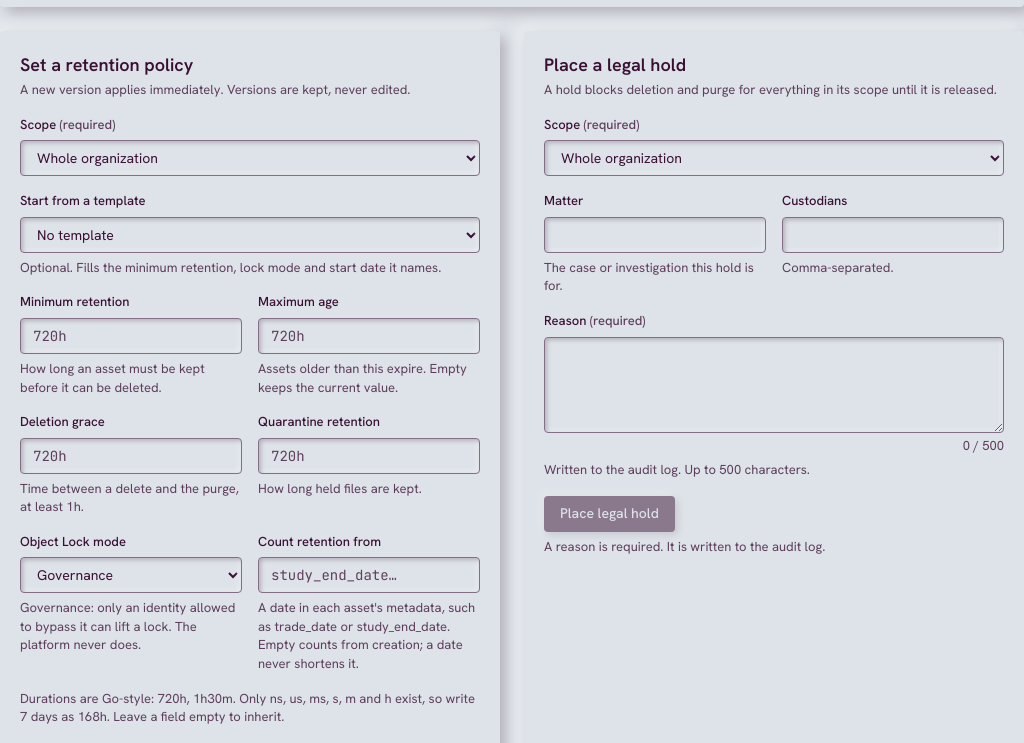
Scenario: RetentionScreen › lists a placed legal hold and releases it from the list
(page scrolled)
Type "court order" into the text box labelled "Reason (required)" below "Comma-separated." at [774, 384], box [544, 336, 1004, 432]
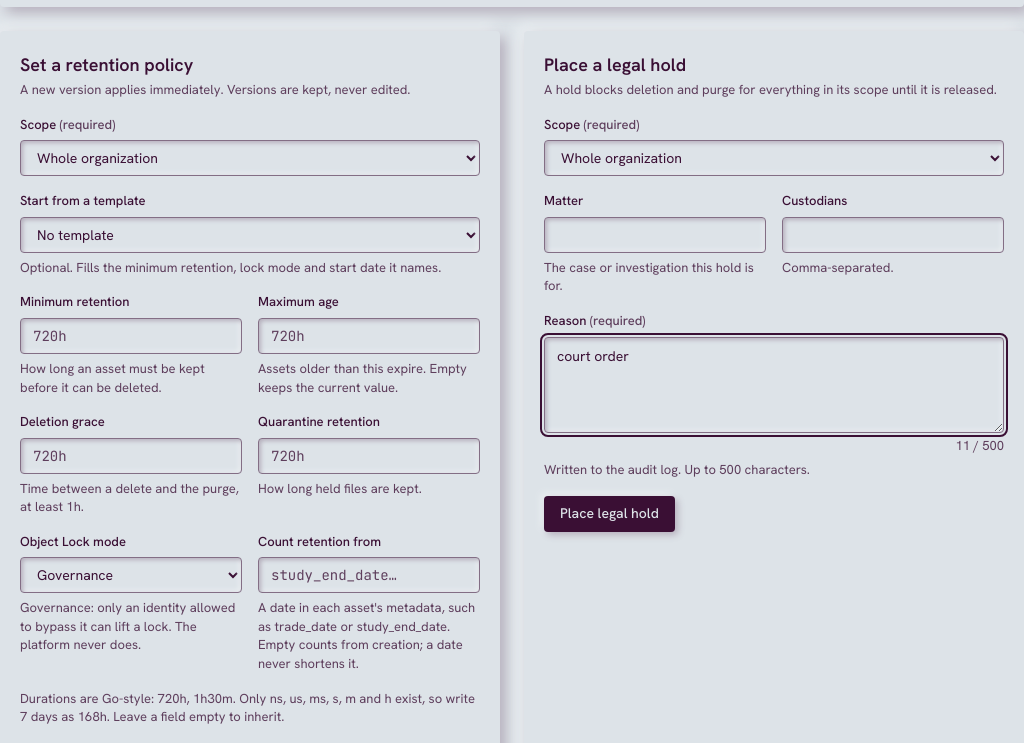
Click the button "Place legal hold" at [609, 514], box [544, 496, 675, 532]
(page scrolled)
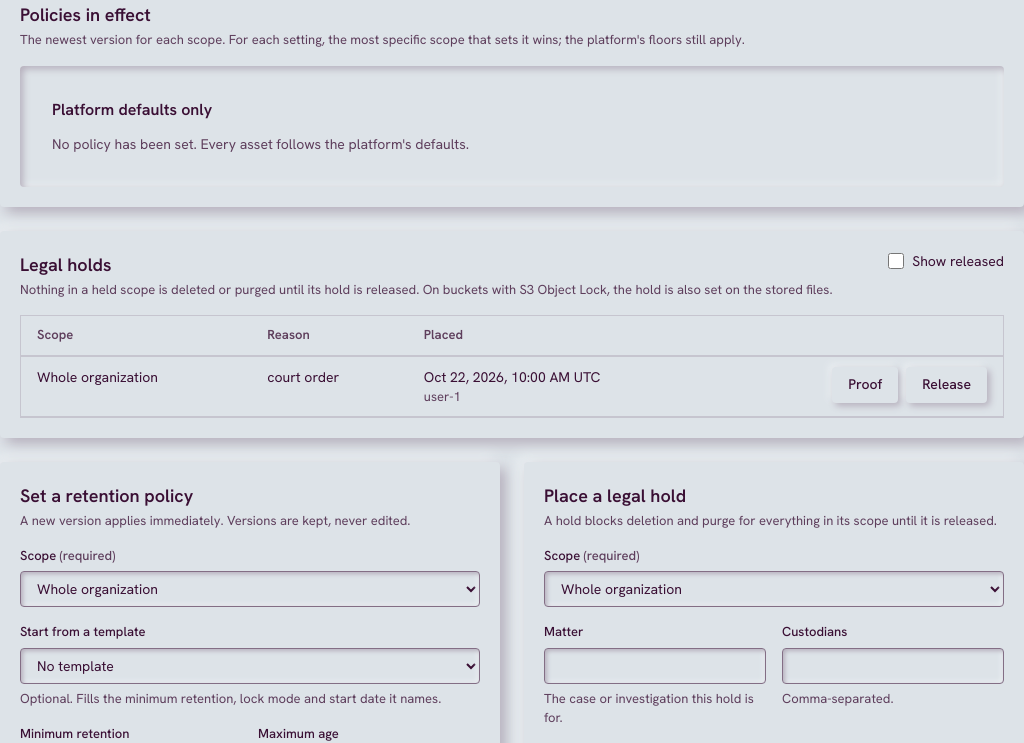
Expected: the text "court order" is shown, [251, 357, 408, 417]
Click the button "Release" at [947, 385], box [906, 367, 987, 403]
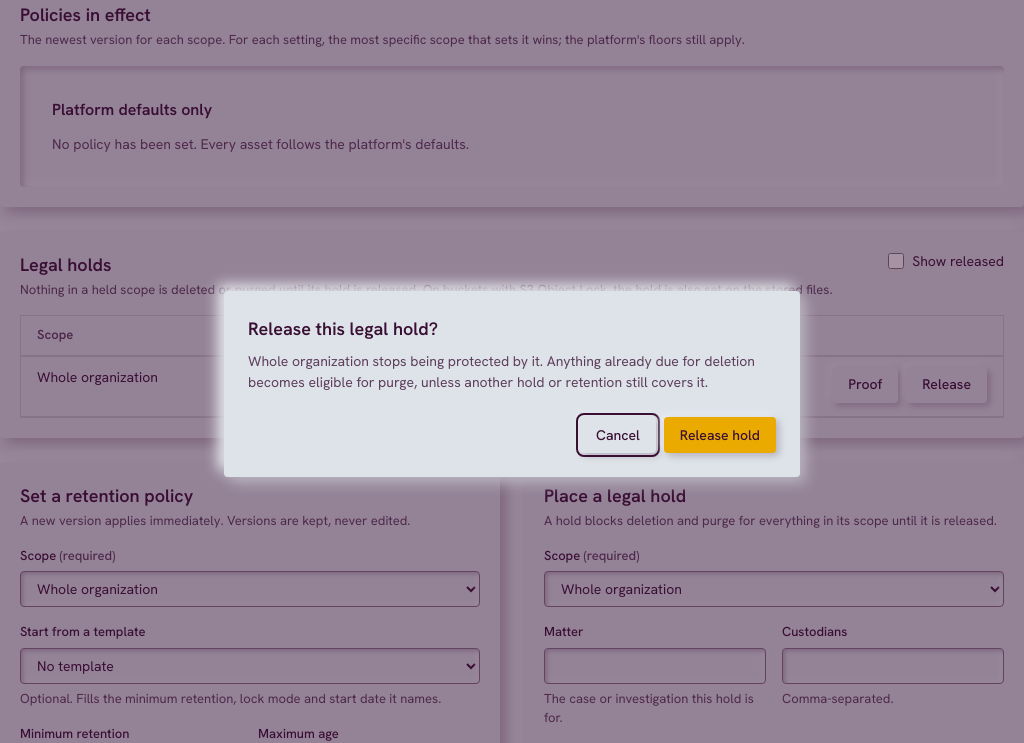
Click the button "Release hold" at [720, 435], box [664, 417, 776, 453]
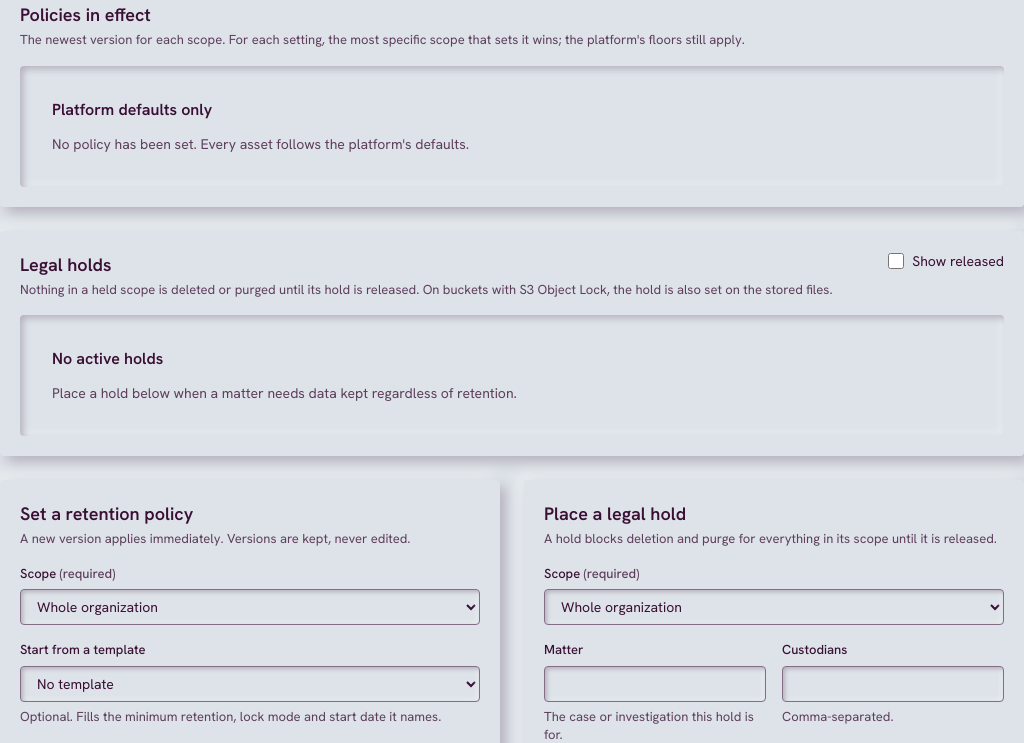
Expected: the heading "No active holds" is shown, [52, 347, 163, 371]
